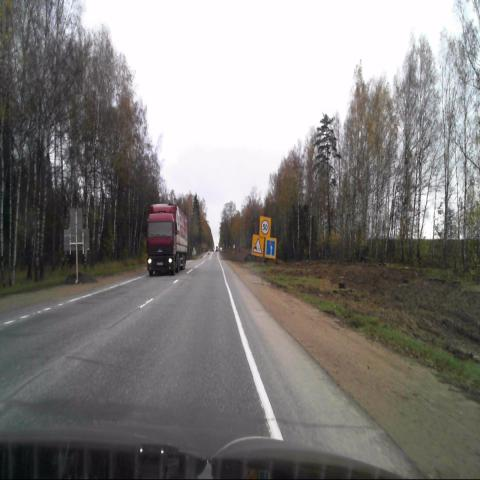1_18: (252, 235, 264, 256)
2_7: (265, 237, 276, 259)
